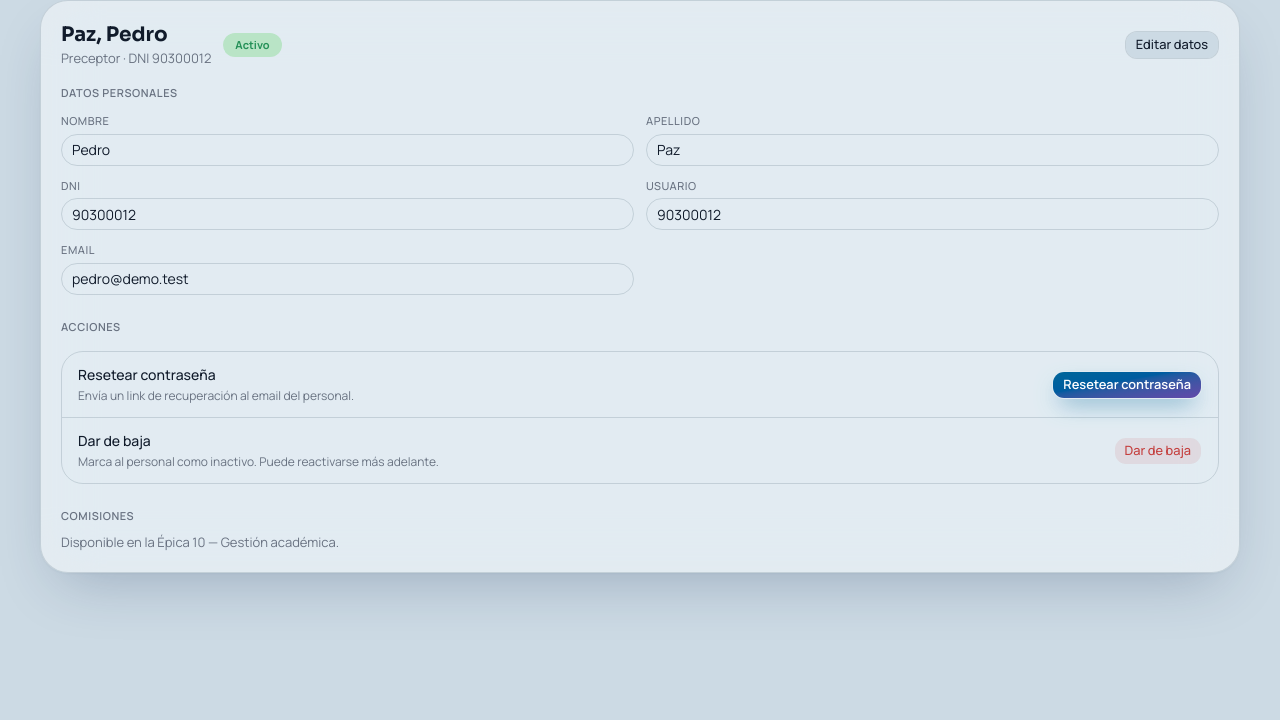
Scenario: LegajoPersonal › confirms when the contact data was saved
This screenshot has width=1280, height=720.
Step 1. Click the button "Editar datos" → [1172, 45], box [1125,31,1219,59]
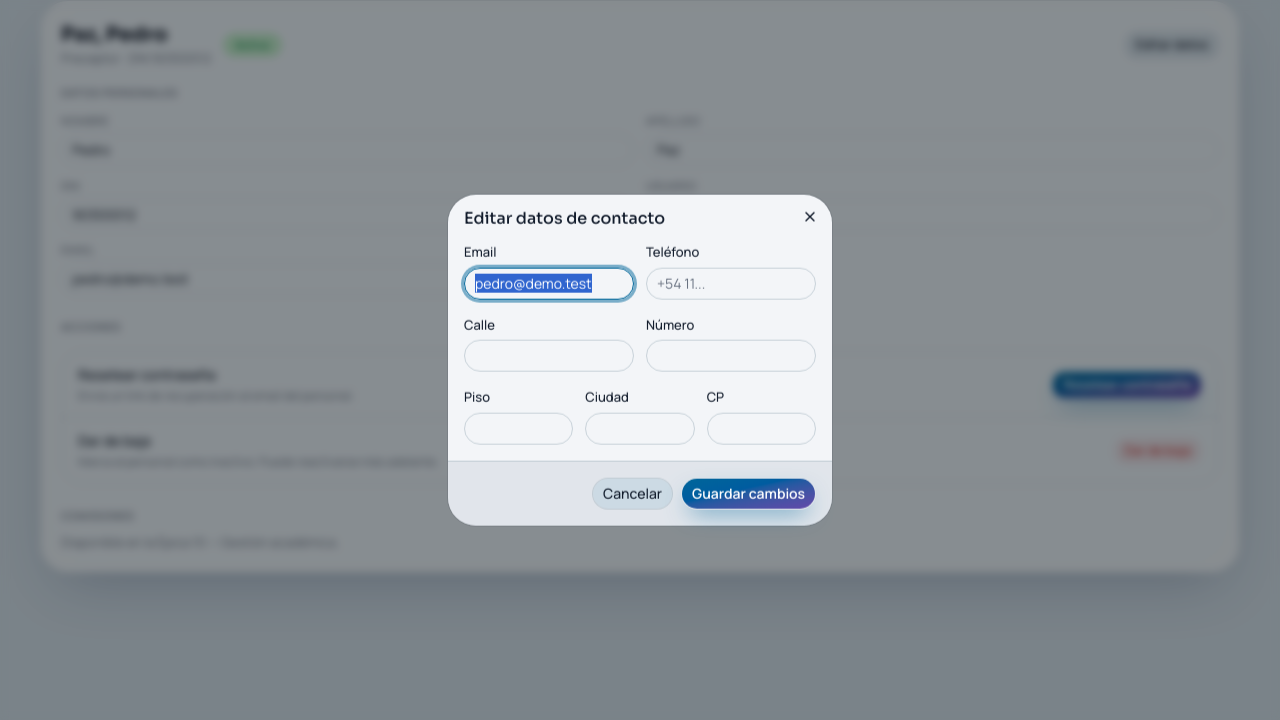
Step 2. Click the button "Guardar cambios" → [748, 493], box [681,477,816,509]
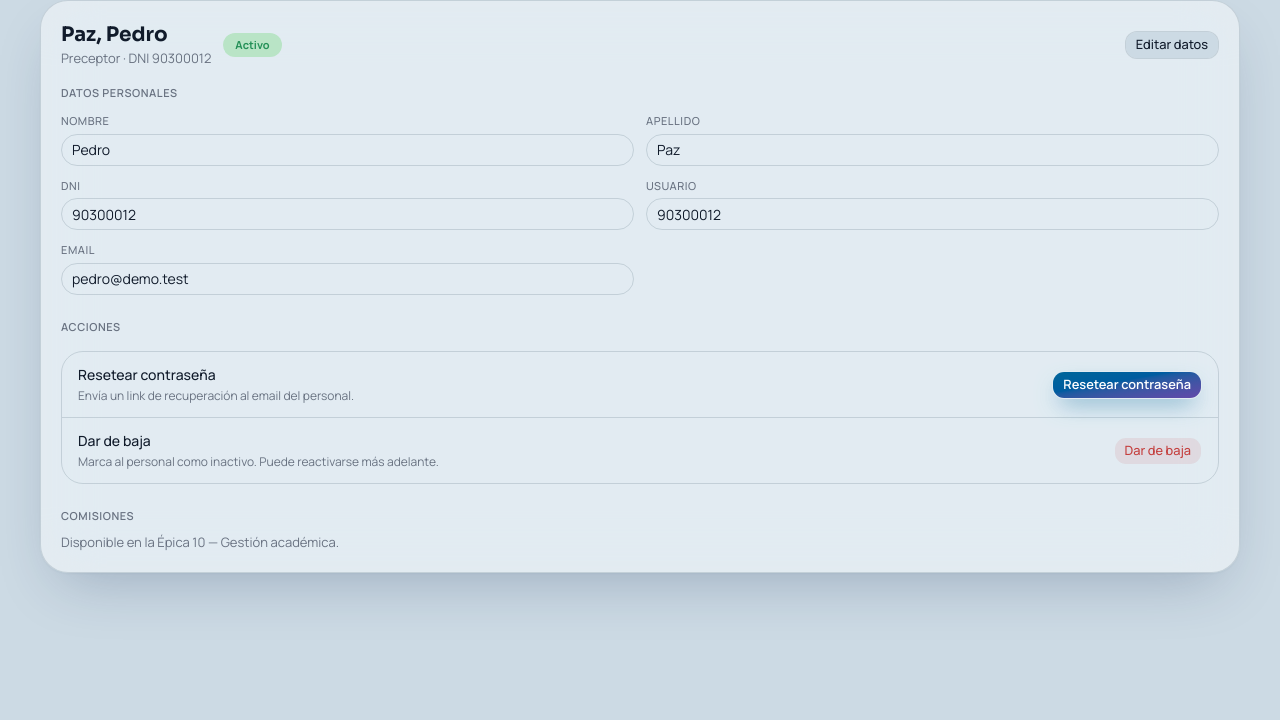
expect the dialog is gone: met
